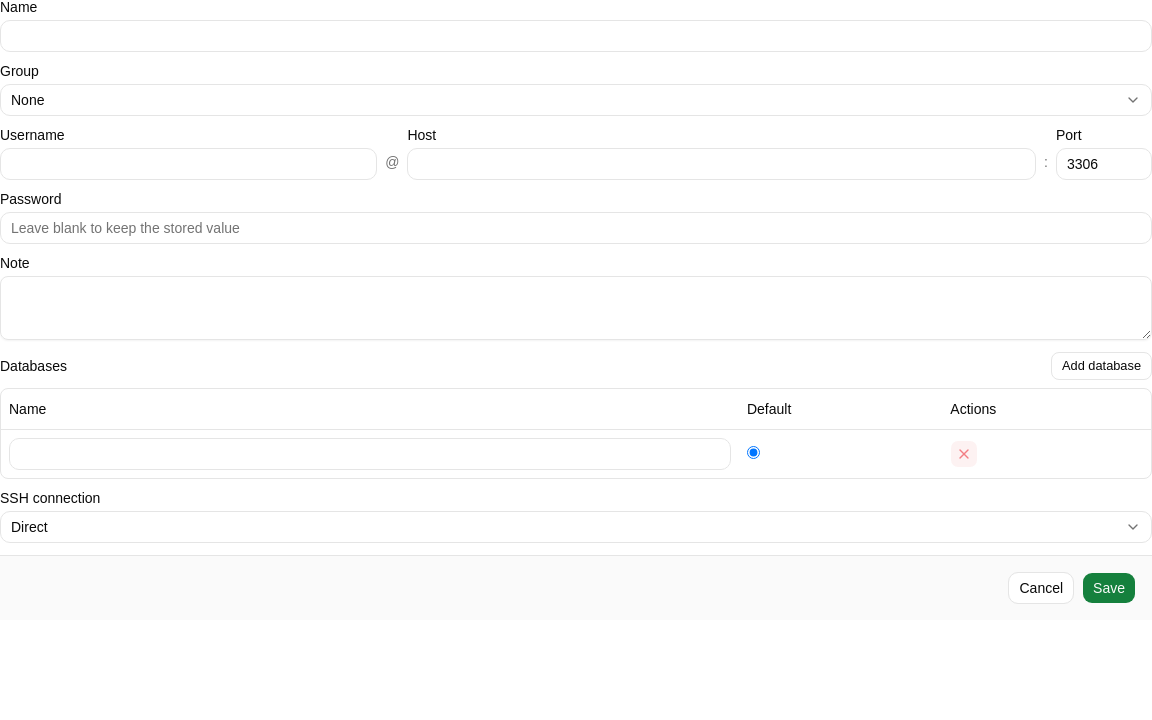
Test case: DBForm › lists existing profiles as name — host:port
Click the dropdown named "SSH connection" at (29, 526), box [0,510,1151,542]
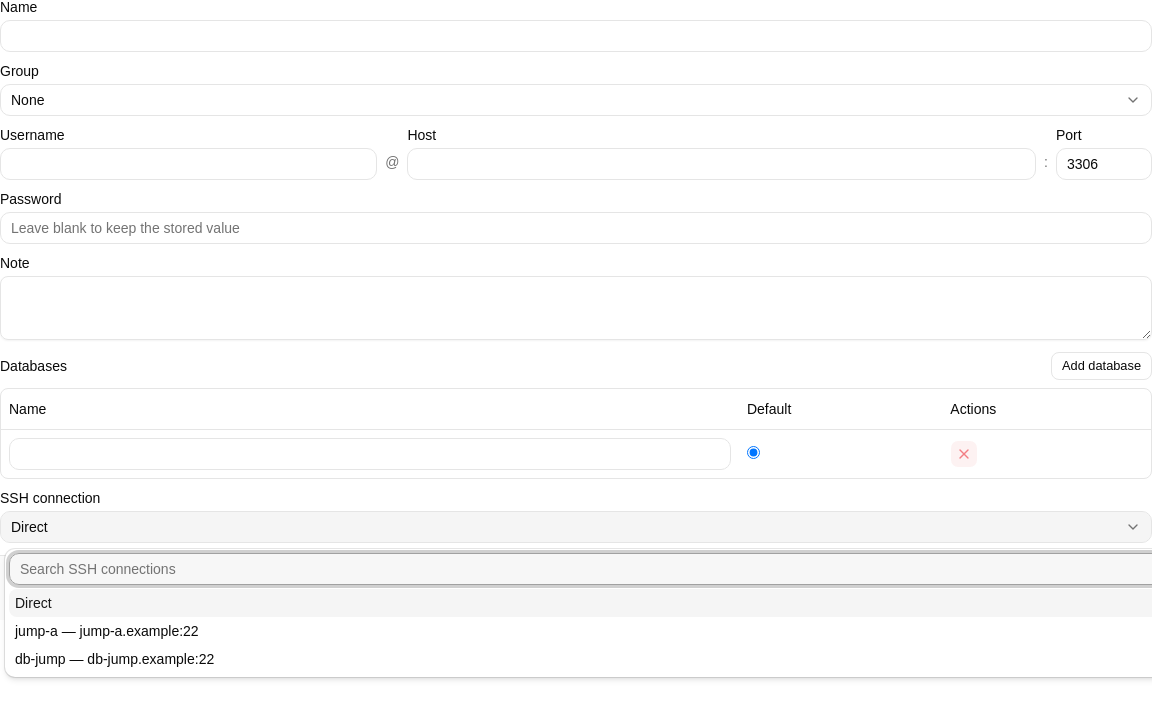
Now the option "jump-a — jump-a.example:22" is shown, box [15,623,199,639]
Now the option "db-jump — db-jump.example:22" is shown, box [15,651,214,667]
